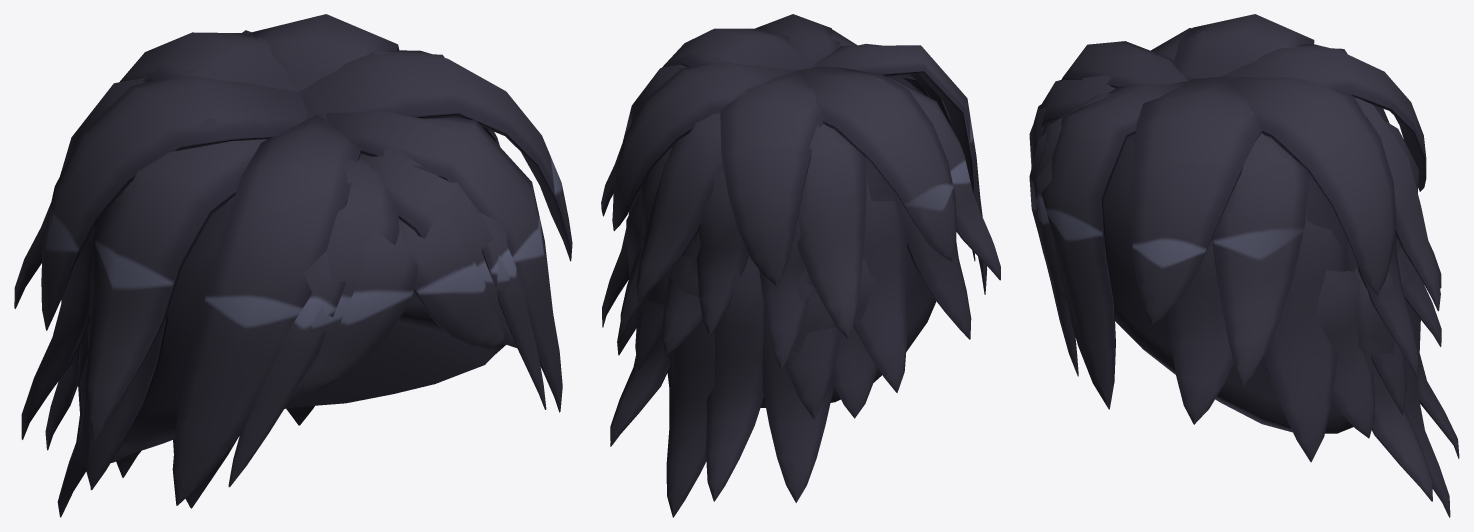
Rendered from FluffyWolfCut_Noir.fbx.
3 renders of one model, left to right at view 1: azimuth 30°, elevation 25°; view 2: azimuth 150°, elevation 25°; view 3: azimuth 270°, elevation 25°, orthographic. The views are drawn at different scales.
Parts seen in each view (by area): view 1: FluffyWolfCut; view 2: FluffyWolfCut; view 3: FluffyWolfCut.
Boxes of the visible parts, left/top/right/bottom form: FluffyWolfCut: left=14, top=14, right=572, bottom=517; FluffyWolfCut: left=601, top=14, right=1000, bottom=517; FluffyWolfCut: left=1029, top=14, right=1459, bottom=517.
Size of the model in its own units: 1.71 by 1.78 by 1.56.
1 material, 1 textured.
